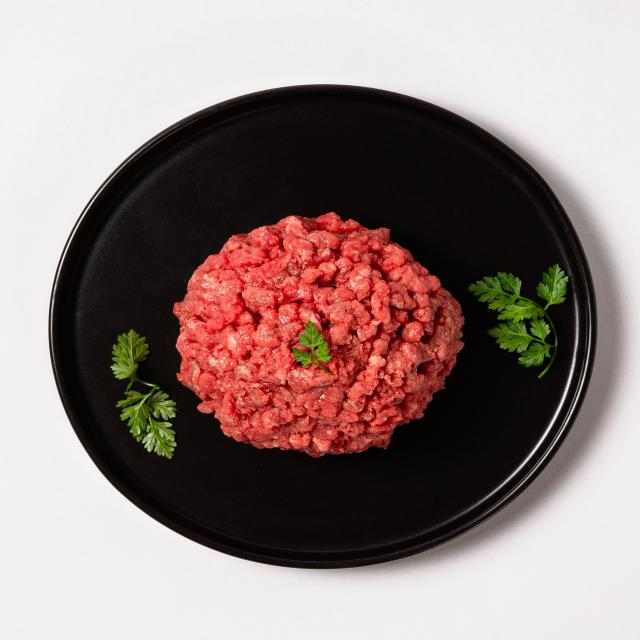beef: (213, 260, 294, 418)
